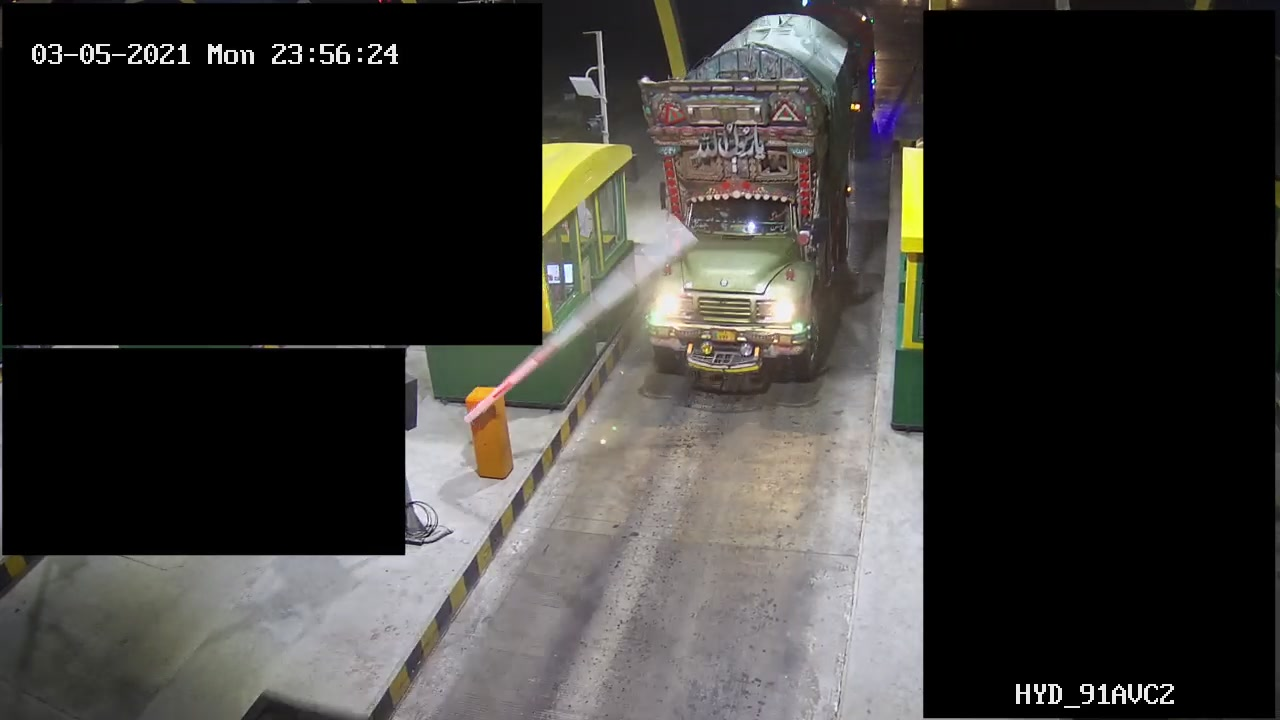F5: (638, 3, 851, 392)
